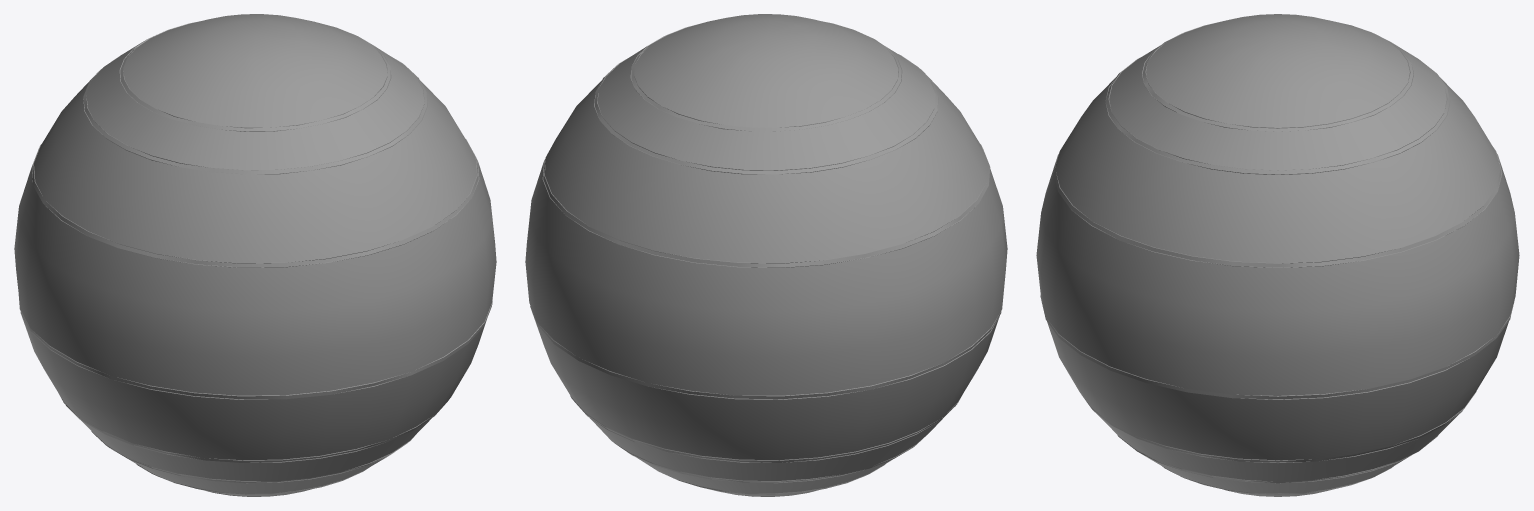
File: Fitnes ball 3.FBX
The picture shows the model from 3 angles, left to right: view 1: azimuth 30°, elevation 25°; view 2: azimuth 150°, elevation 25°; view 3: azimuth 270°, elevation 25°; orthographic projection.
Parts seen in each view (by area): view 1: fitnes ball 3; view 2: fitnes ball 3; view 3: fitnes ball 3.
Part boxes in pixels (x1,y1,x2,y2): fitnes ball 3: (14,14,496,496); fitnes ball 3: (525,14,1007,496); fitnes ball 3: (1036,14,1519,496).
Bounding box in the file's own units: 64.59 × 64.59 × 64.59.
